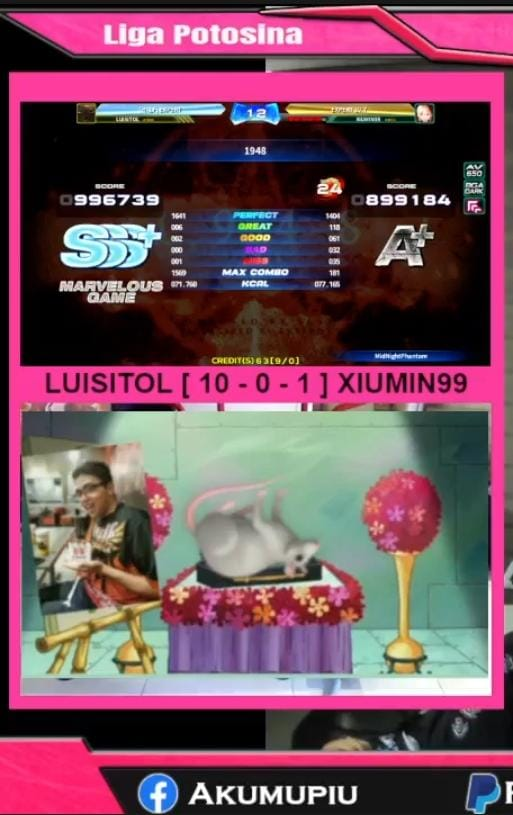difficulty: (314, 171, 343, 202)
fullscore: (248, 103, 505, 356)
rank: (54, 216, 166, 270), (371, 215, 436, 296)
score: (51, 175, 166, 208), (360, 181, 449, 215)
song_name: (146, 130, 387, 165)
